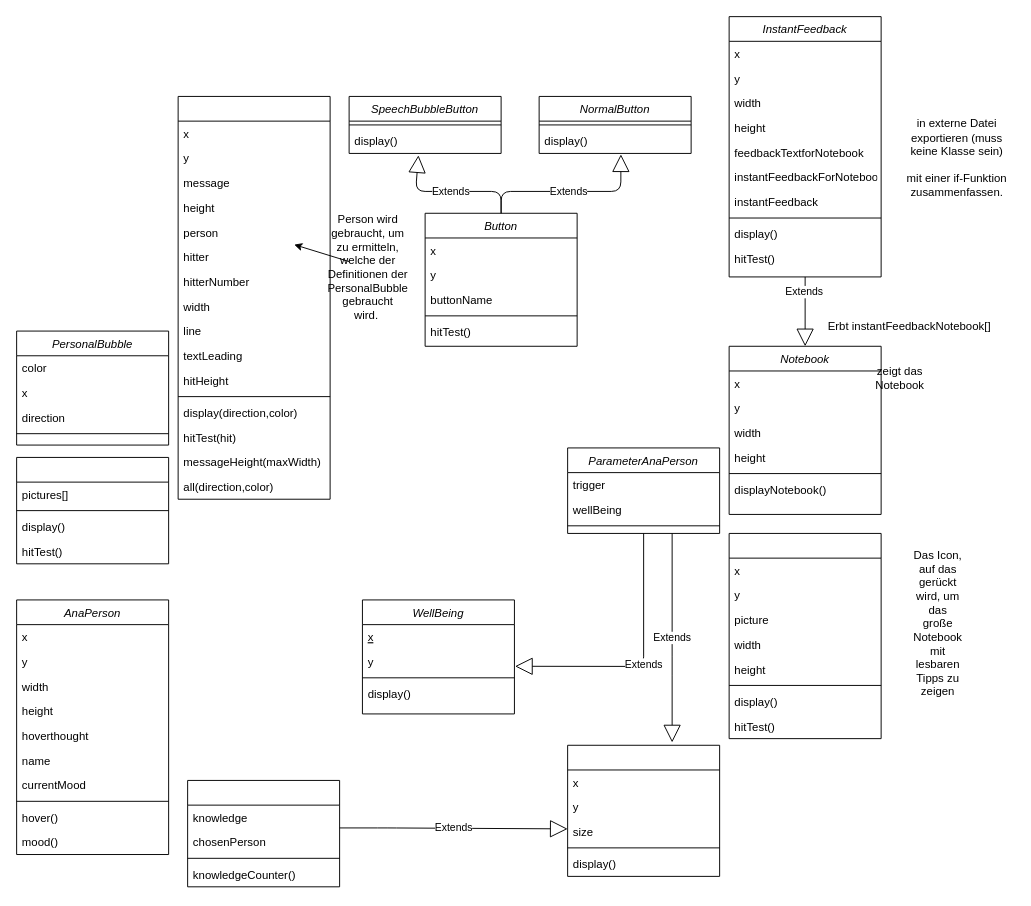
The diagram is 1031 pixels wide and 906 high, and some of its shapes have lost their labels. Here are the shapes that lost their labels. From the top down, the box of each, then its label:
(177, 95, 330, 499): SpeechBubble
(16, 456, 169, 564): ScreenOrganisation
(728, 532, 881, 739): NotebookIcon
(567, 744, 720, 876): Feedback
(187, 779, 340, 887): User
